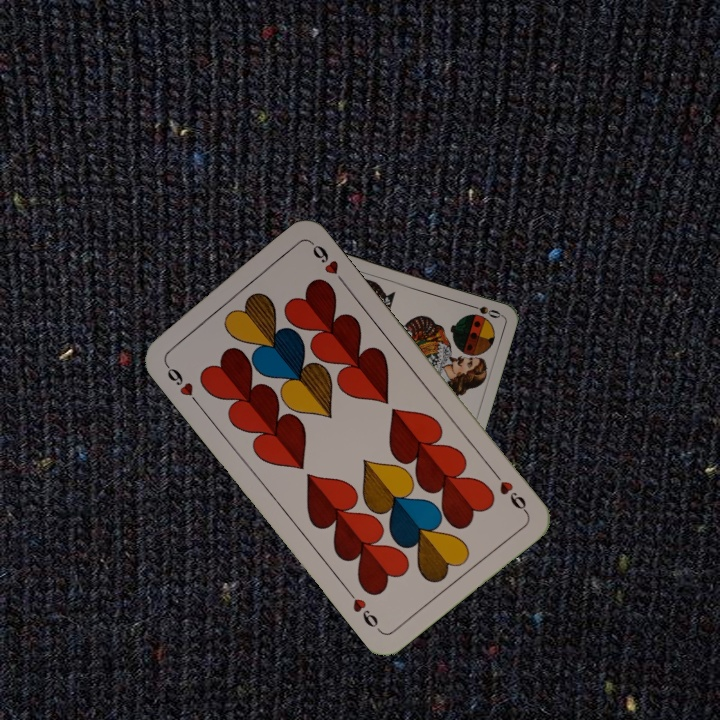H9: (160, 357, 202, 408), (488, 466, 530, 516)
SO: (464, 300, 503, 321)
